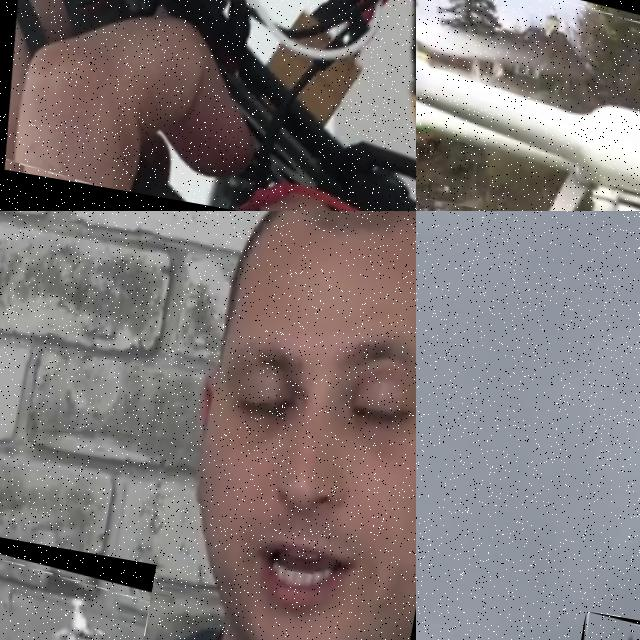drone: (0, 0, 416, 211), (416, 0, 640, 211), (0, 499, 156, 640)
